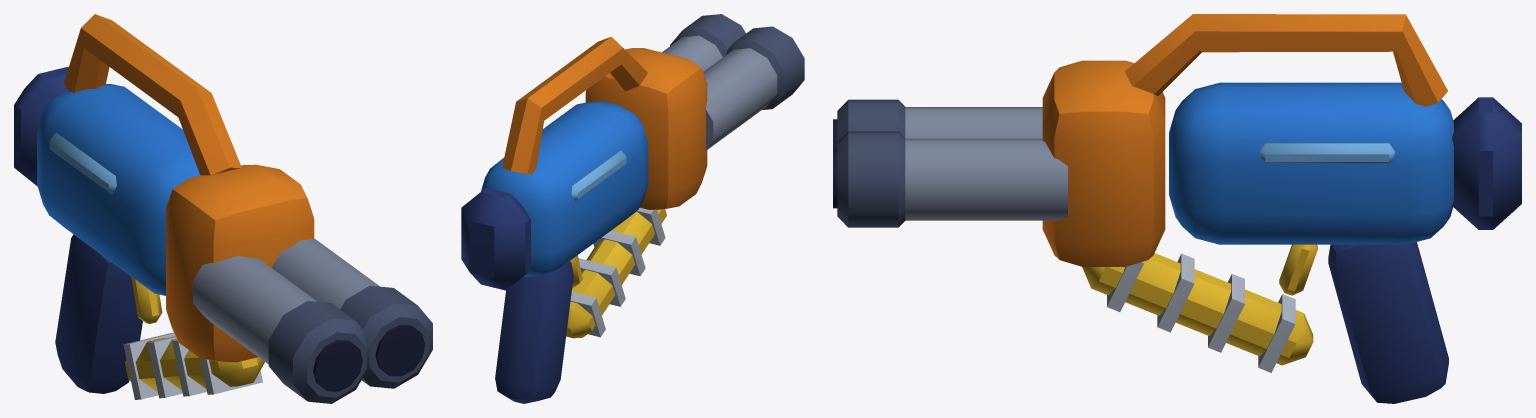
Rendered from w_b_nailer.glb.
3 renders of one model, left to right at view 1: azimuth 30°, elevation 25°; view 2: azimuth 150°, elevation 25°; view 3: azimuth 270°, elevation 25°, orthographic. The views are drawn at different scales.
Parts seen in each view (by area): view 1: body; view 2: body; view 3: body.
Part boxes in pixels (x1=…): body: x1=14, y1=14, x2=432, y2=403; body: x1=461, y1=14, x2=804, y2=403; body: x1=833, y1=14, x2=1521, y2=403.
Size of the model in its own units: 0.1867 by 0.4726 by 0.7648.
